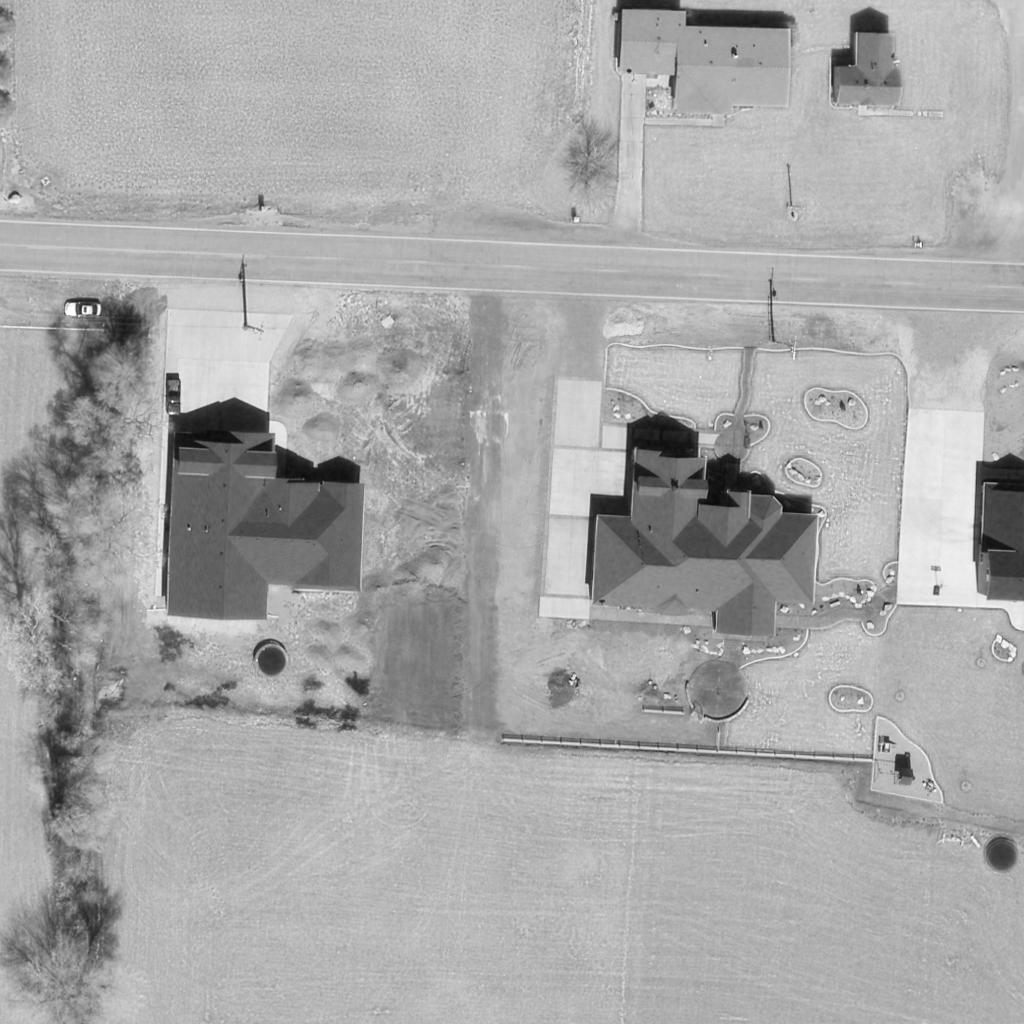vehicle: (165, 378, 183, 416), (63, 303, 101, 315)
